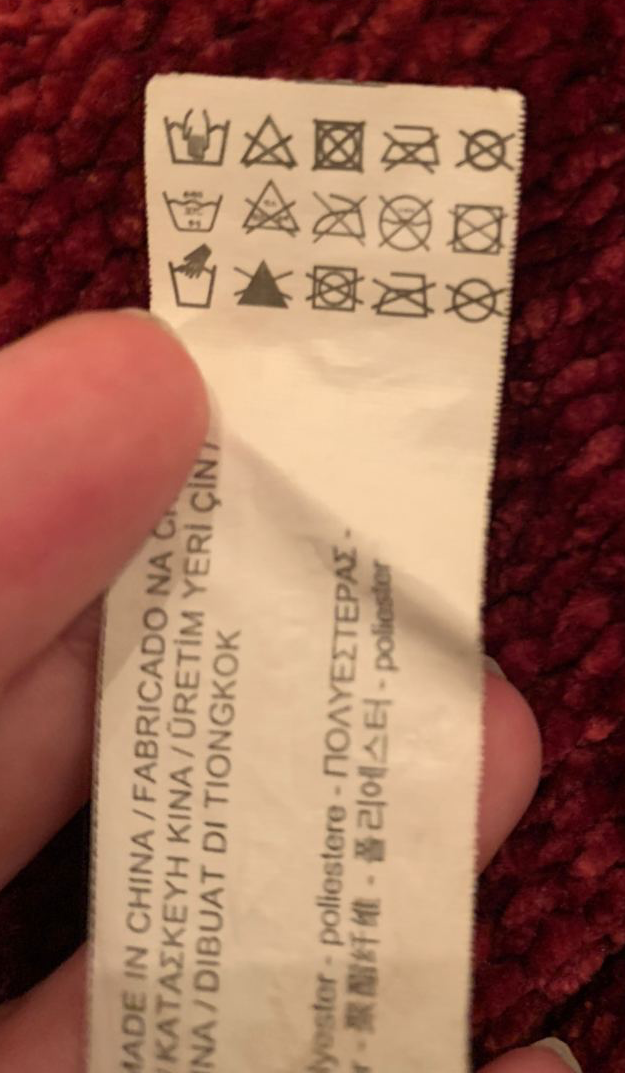do_not_bleach: (236, 106, 298, 171), (232, 251, 296, 307)
do_not_dry_clean: (441, 274, 510, 322), (452, 126, 516, 172)
do_not_iron: (369, 269, 439, 317), (380, 122, 443, 174)
do_not_tumble_drying: (308, 114, 368, 174), (447, 198, 508, 257), (304, 261, 367, 312)
hand_wash: (164, 102, 232, 166), (164, 241, 224, 311)
